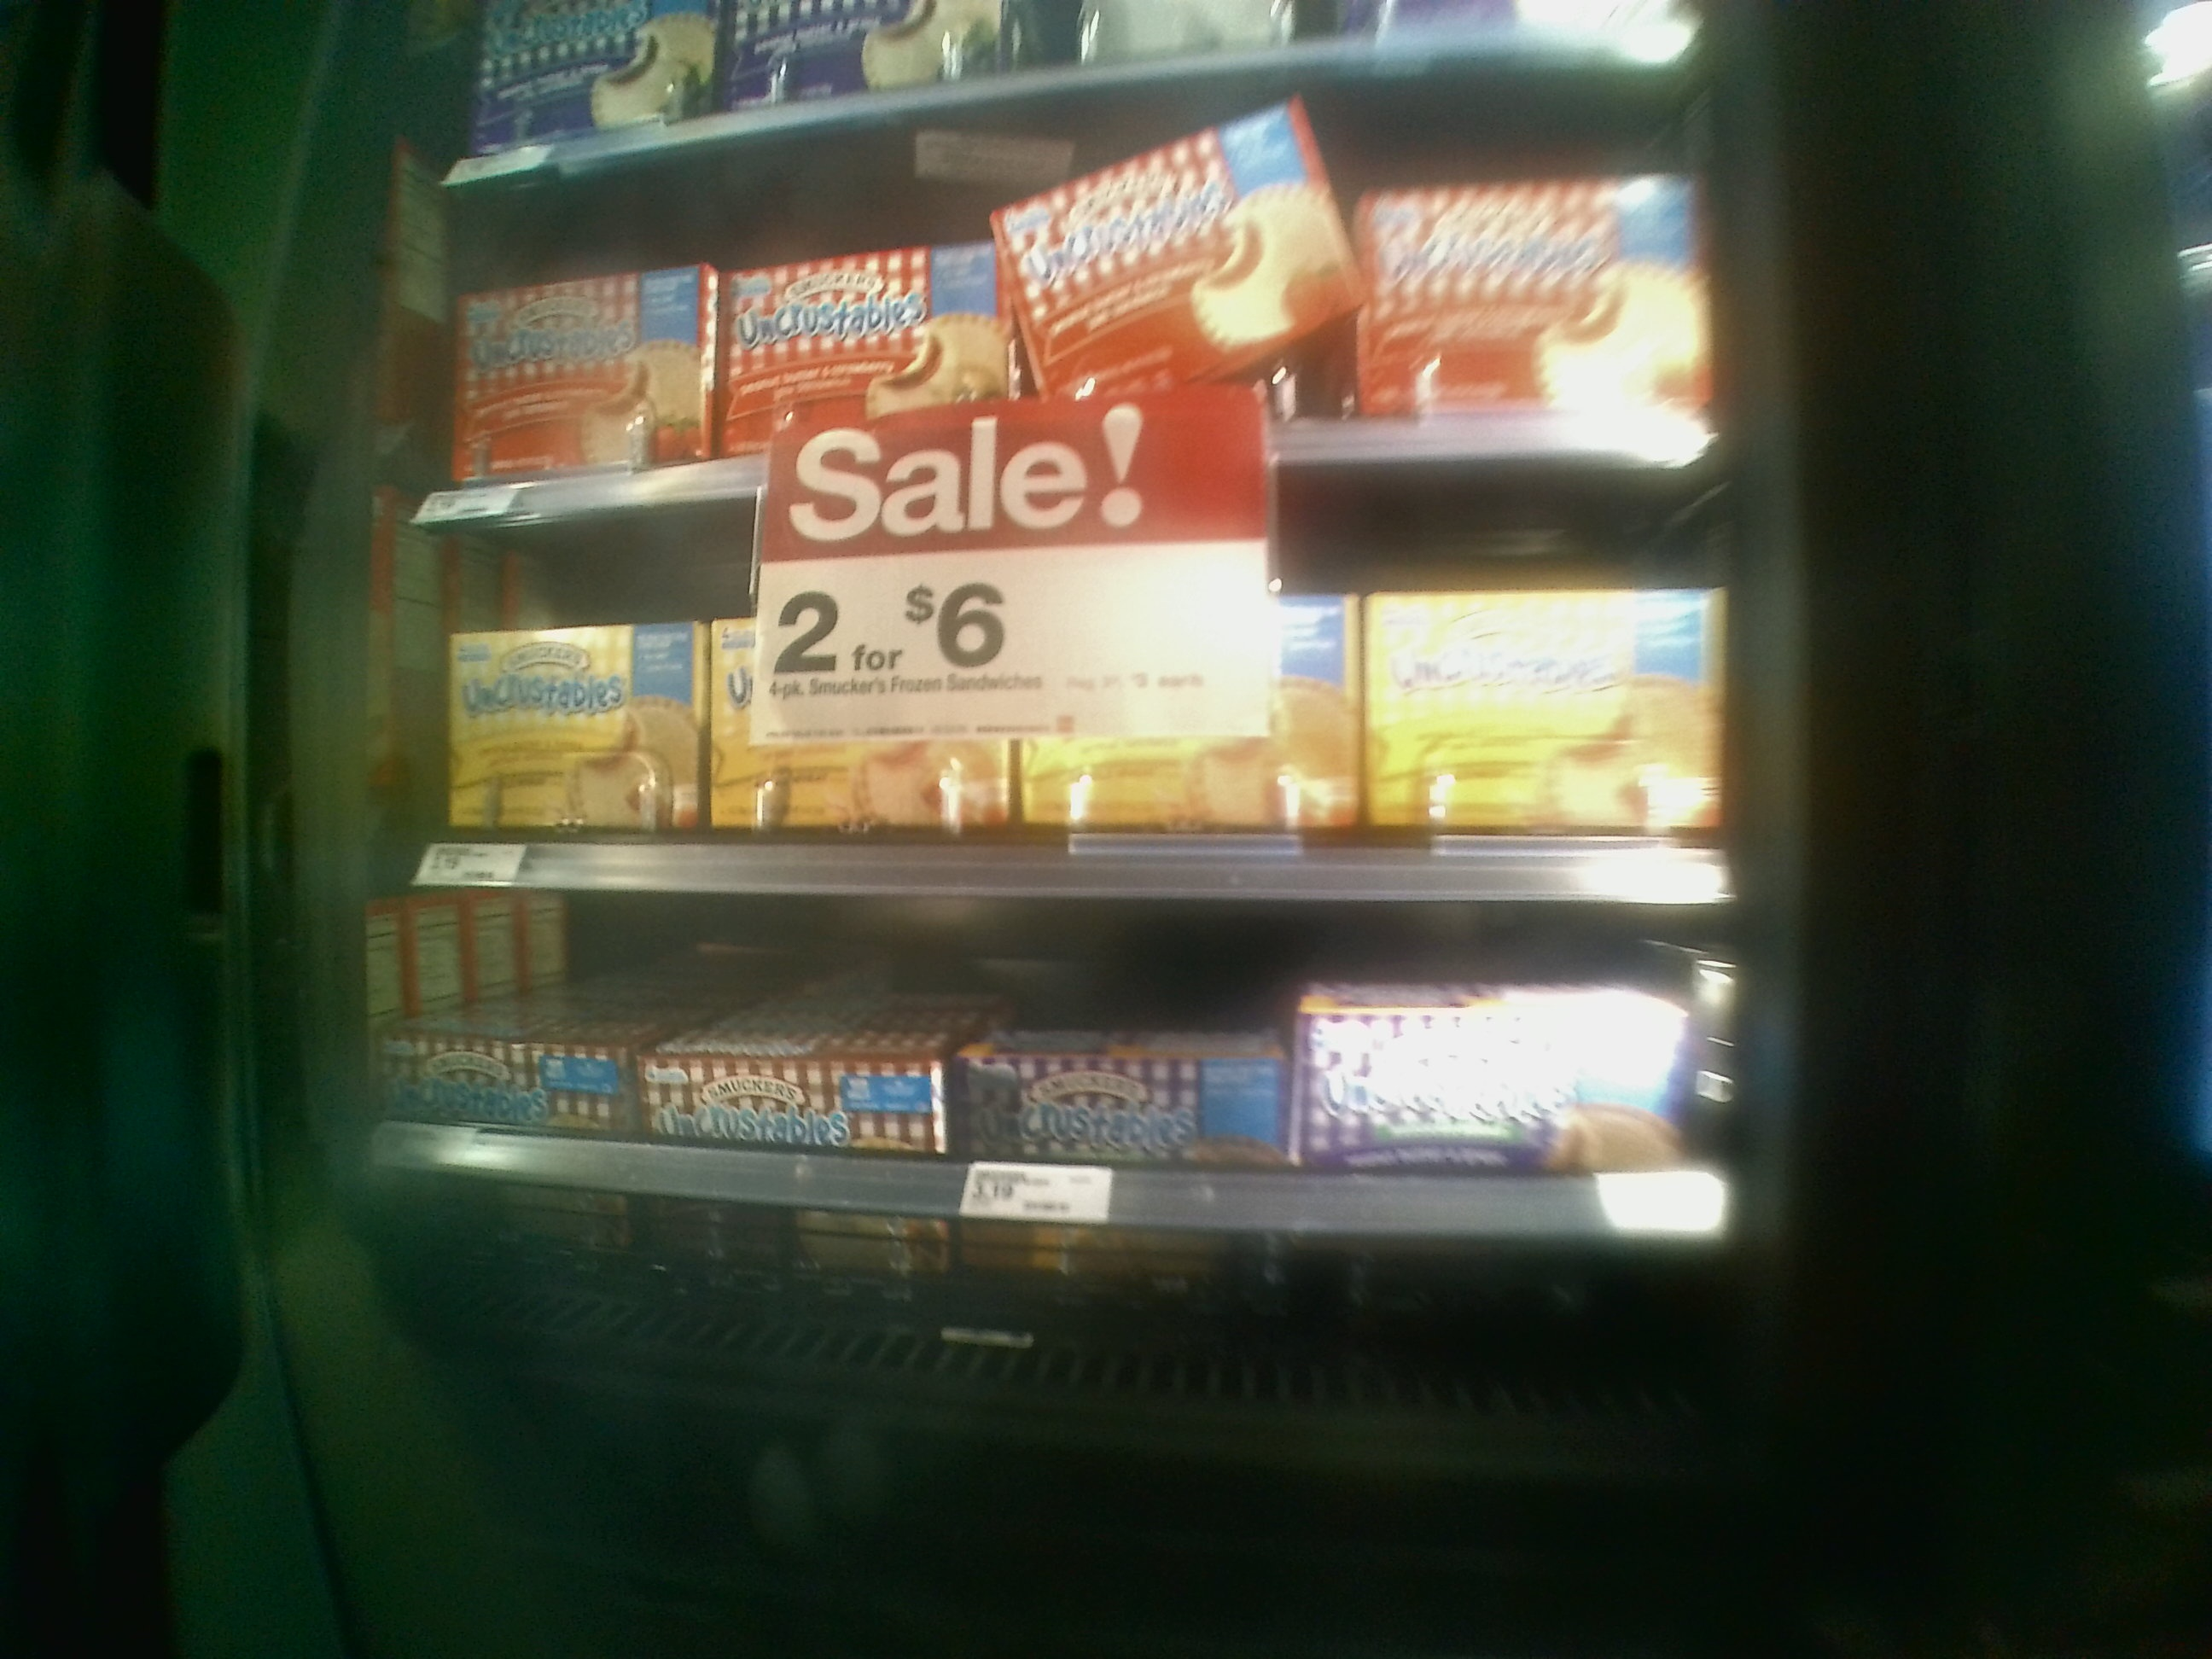shelf: (381, 889, 1730, 1359), (409, 446, 1737, 904)
